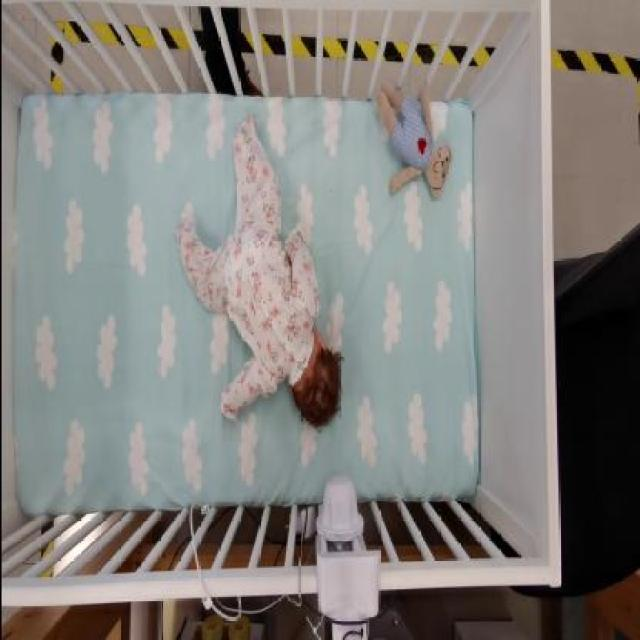baby: (174, 115, 346, 434)
